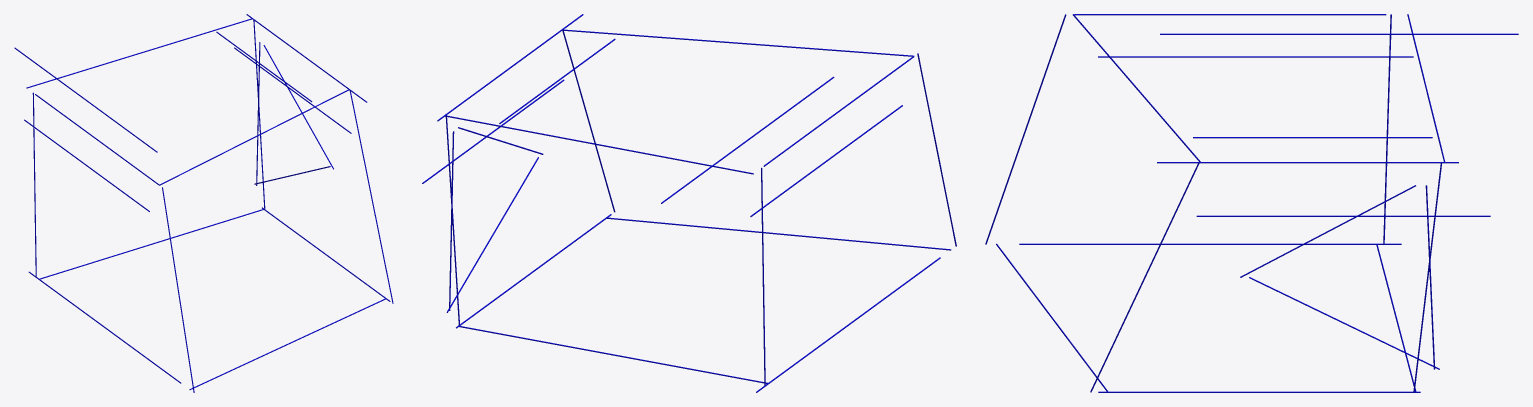
The model's file is corrected_3d_strokes.glb.
The picture shows the model from 3 angles, left to right: view 1: azimuth 30°, elevation 25°; view 2: azimuth 150°, elevation 25°; view 3: azimuth 270°, elevation 25°; orthographic projection. The views are drawn at different scales.
Parts seen in each view (by area): view 1: world; view 2: world; view 3: world.
Boxes of the visible parts, x1=… form: world: x1=14, y1=14, x2=393, y2=392; world: x1=422, y1=14, x2=956, y2=392; world: x1=985, y1=14, x2=1518, y2=392.
Size of the model in its own units: 9.52 by 6.9 by 14.46.
